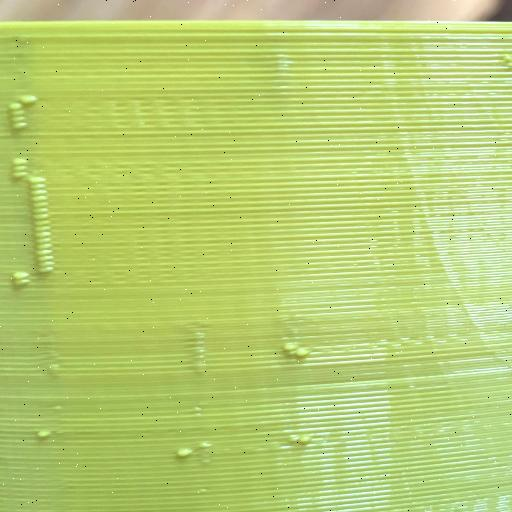blobs: (8, 150, 58, 296), (24, 344, 71, 462), (158, 323, 229, 387), (4, 84, 66, 138), (158, 424, 222, 472), (276, 333, 322, 367), (280, 425, 328, 454)
